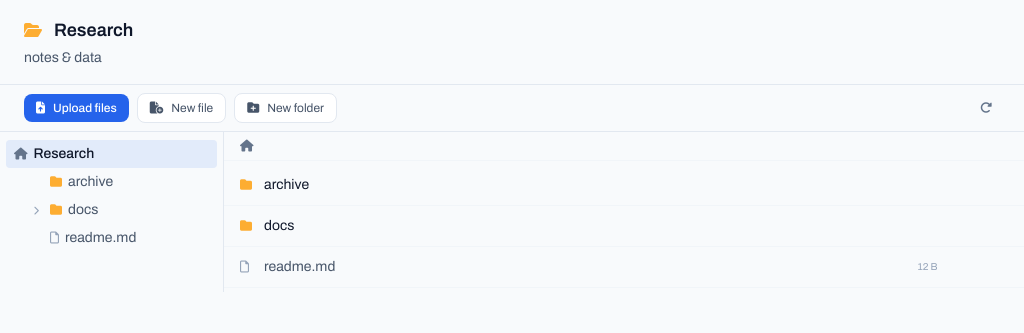
Test case: ProjectPage explorer layout › deleting the selected folder falls back to its parent
The image size is (1024, 333).
Expected: the element with test id "file-row-readme.md" is shown, [224, 247, 1023, 288]
Click the element with test id "tree-node-docs" at x=63, y=210, box [28, 200, 98, 220]
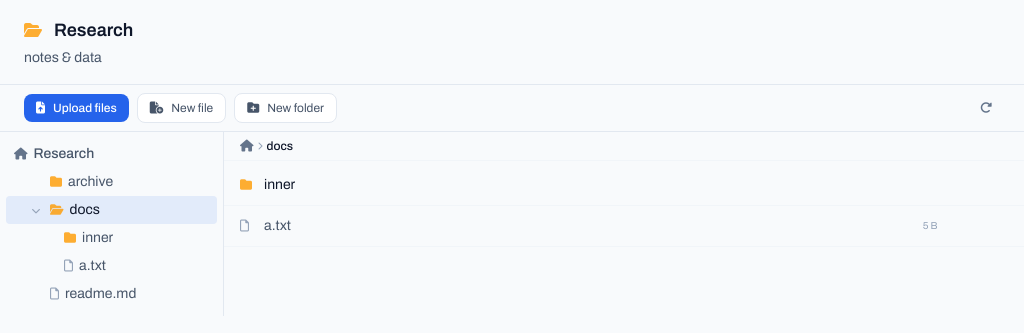
Expected: the element with test id "file-row-docs/a.txt" is shown, [224, 206, 1023, 247]
Right-click the element with test id "tree-node-docs" at x=112, y=210, box [6, 196, 217, 224]
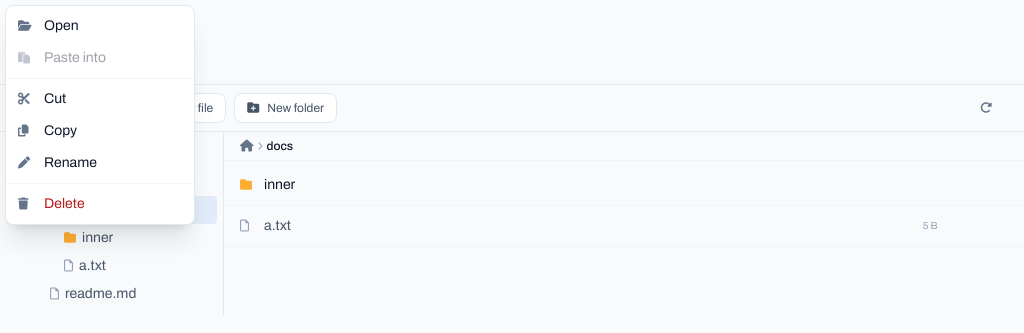
Click the menu item "Delete" at x=100, y=204, box [6, 188, 194, 220]
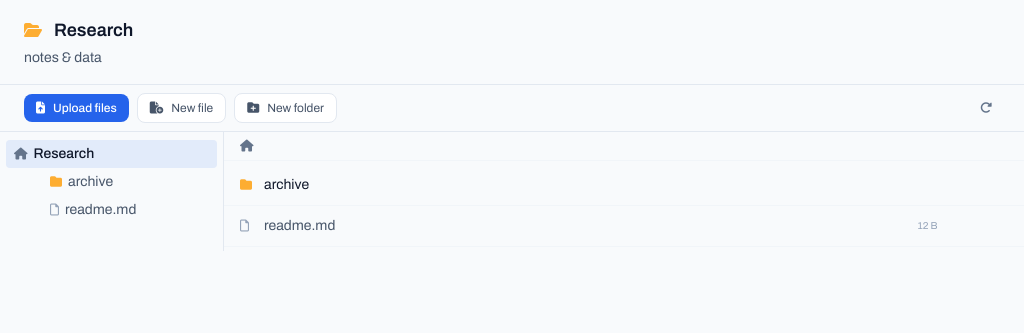
Expected: the element with test id "file-row-readme.md" is shown, [224, 206, 1023, 247]
